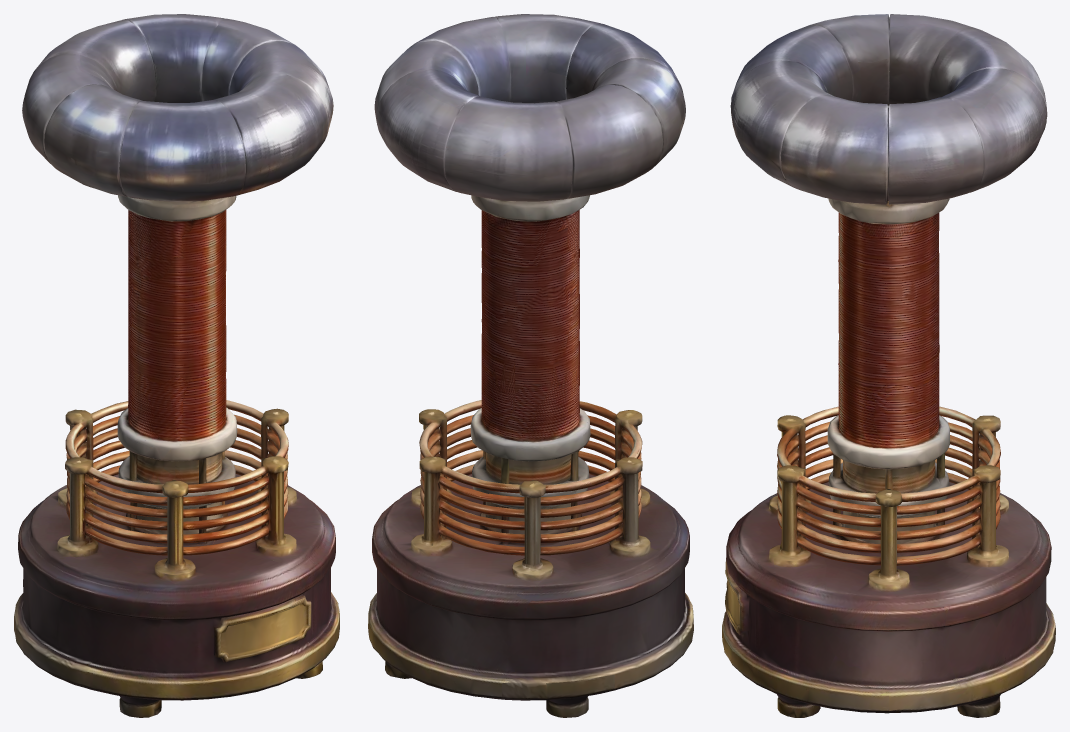
Rendered from tesla-coil.glb.
3 renders of one model, left to right at view 1: azimuth 30°, elevation 25°; view 2: azimuth 150°, elevation 25°; view 3: azimuth 270°, elevation 25°, orthographic.
Parts seen in each view (by area): view 1: tripo_node_e3312a0f-3752-4d2f-8179-cdb413fc47dc; view 2: tripo_node_e3312a0f-3752-4d2f-8179-cdb413fc47dc; view 3: tripo_node_e3312a0f-3752-4d2f-8179-cdb413fc47dc.
Part boxes in pixels (bbox=[...]): tripo_node_e3312a0f-3752-4d2f-8179-cdb413fc47dc: bbox=[14, 14, 339, 717]; tripo_node_e3312a0f-3752-4d2f-8179-cdb413fc47dc: bbox=[368, 14, 693, 717]; tripo_node_e3312a0f-3752-4d2f-8179-cdb413fc47dc: bbox=[722, 14, 1055, 717].
Size of the model in its own units: 0.4985 by 1 by 0.4988.
1 material, 1 textured.
